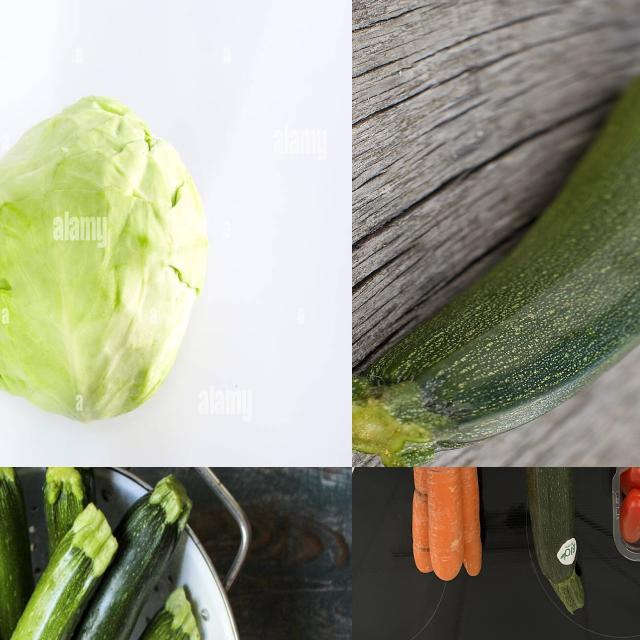cabbage: (1, 94, 207, 426)
carrot: (446, 468, 504, 594), (424, 468, 463, 598), (409, 468, 447, 578)
zucchini: (353, 14, 640, 468), (521, 468, 600, 625), (1, 527, 94, 640)
